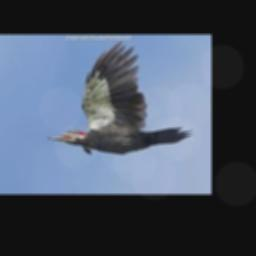Woodpecker: (46, 41, 193, 153)
